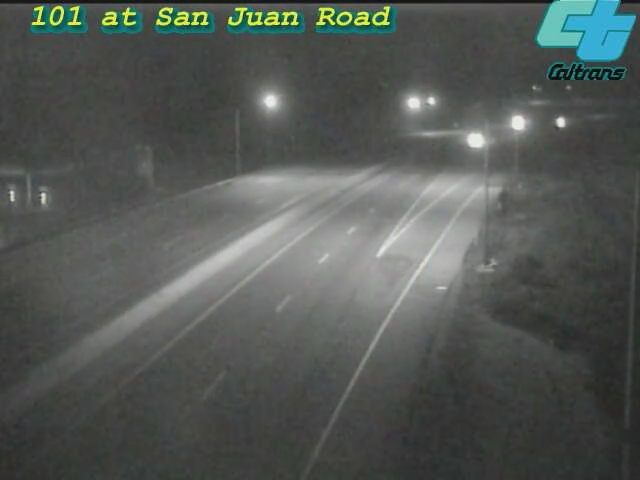vehicle: (536, 97, 586, 147), (486, 97, 536, 147), (450, 116, 500, 166)
